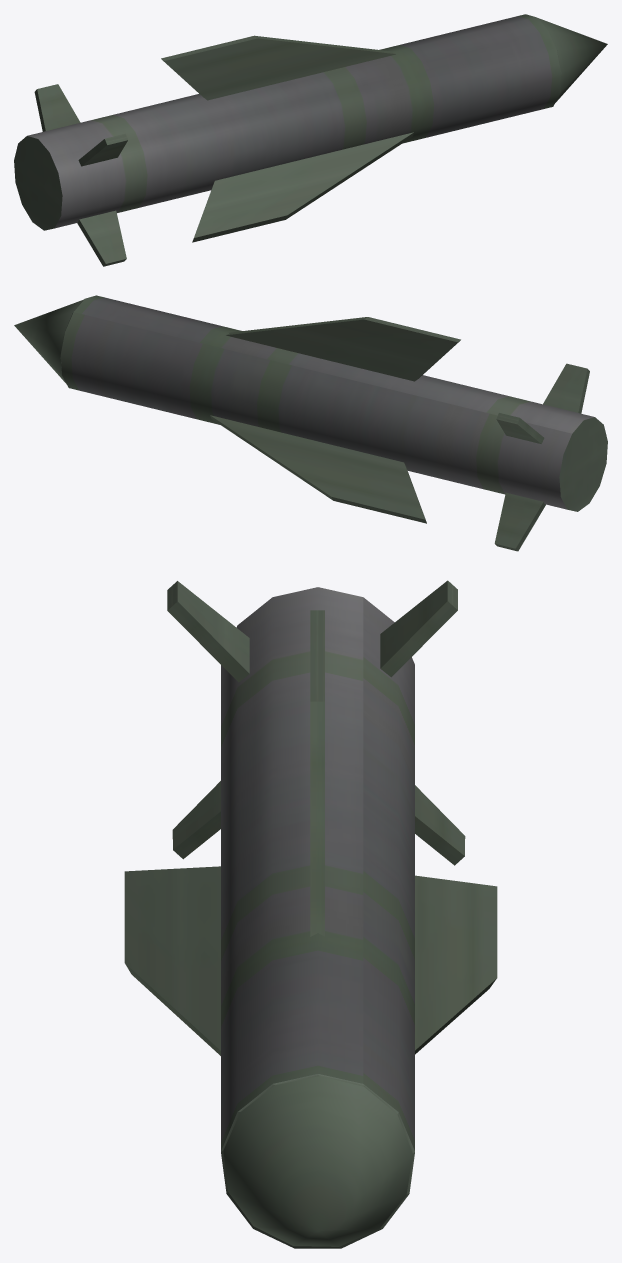
Rendered from Missle4.fbx.
3 renders of one model, top to bottom at view 1: azimuth 30°, elevation 25°; view 2: azimuth 150°, elevation 25°; view 3: azimuth 270°, elevation 25°, orthographic. The views are drawn at different scales.
Visible parts, largest first — view 1: pCylinder11, pCube15, pCube14, pCube18, pCube20, pCube17; view 2: pCylinder11, pCube16, pCube14, pCube19, pCube17, pCube20; view 3: pCylinder11, pCube15, pCube16, pCube14, pCube17, pCube20, pCube19, pCube18.
Part boxes in pixels (left/top/right/bottom): pCylinder11: left=14, top=14, right=607, bottom=230; pCube15: left=192, top=132, right=414, bottom=242; pCube14: left=161, top=35, right=396, bottom=100; pCube18: left=77, top=210, right=126, bottom=266; pCube20: left=34, top=84, right=80, bottom=131; pCube17: left=78, top=133, right=127, bottom=166; pCylinder11: left=14, top=295, right=607, bottom=511; pCube16: left=210, top=415, right=426, bottom=523; pCube14: left=226, top=317, right=460, bottom=381; pCube19: left=494, top=492, right=545, bottom=551; pCube17: left=543, top=363, right=589, bottom=413; pCube20: left=496, top=413, right=544, bottom=443; pCylinder11: left=221, top=587, right=414, bottom=1248; pCube15: left=124, top=866, right=220, bottom=1055; pCube16: left=415, top=875, right=497, bottom=1054; pCube14: left=310, top=610, right=324, bottom=936; pCube17: left=167, top=581, right=249, bottom=682; pCube20: left=380, top=580, right=457, bottom=677; pCube19: left=415, top=785, right=465, bottom=865; pCube18: left=172, top=781, right=220, bottom=859.
Bounding box in the file's own units: 4.39 × 1.2 × 1.24.
2 materials, 2 textured.
